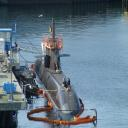submarine: (33, 19, 85, 114)
